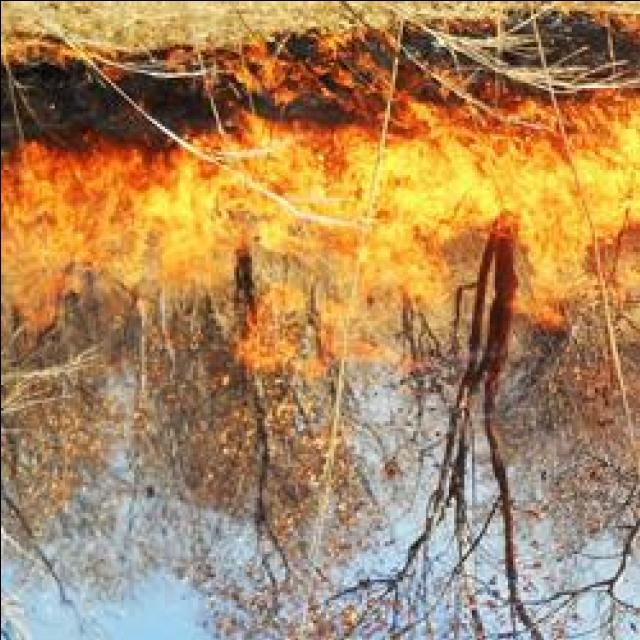fire: (209, 144, 406, 230), (378, 146, 532, 232), (0, 152, 142, 242), (127, 170, 231, 270), (525, 158, 640, 238), (362, 203, 426, 286), (2, 212, 82, 274), (532, 205, 590, 288), (610, 108, 640, 192)
